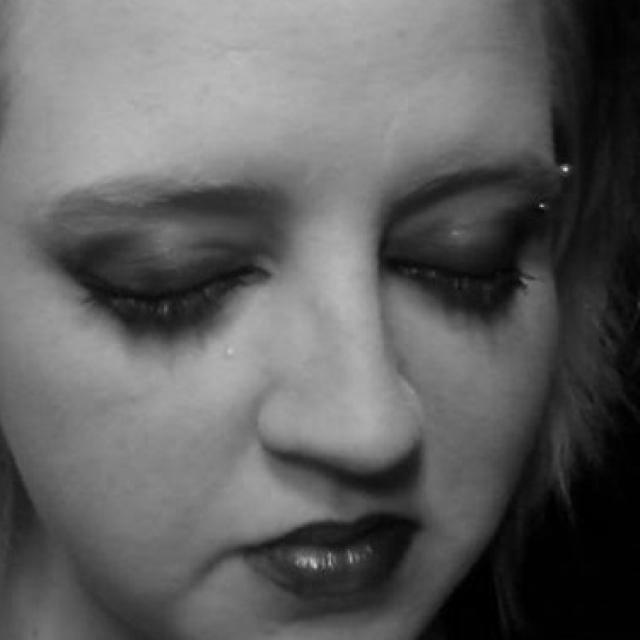real: (56, 0, 568, 590), (83, 216, 551, 332)
